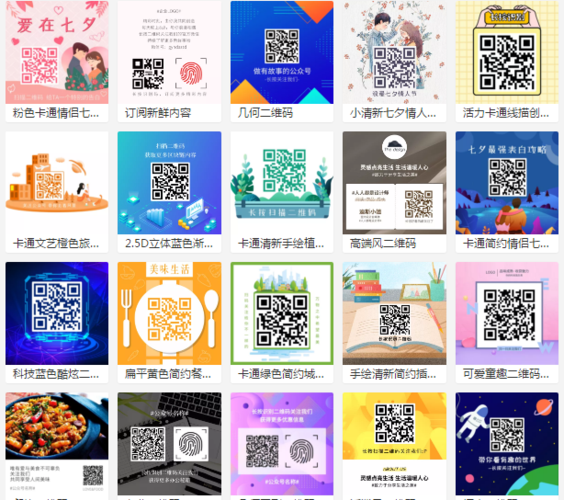QRCode: (478, 34, 537, 91), (254, 293, 310, 348), (482, 287, 536, 342), (32, 282, 82, 333), (147, 296, 195, 342), (261, 148, 307, 193), (372, 47, 416, 90), (375, 403, 414, 444), (20, 45, 58, 85), (151, 162, 189, 202), (488, 158, 528, 196), (130, 426, 166, 462), (264, 29, 299, 64), (244, 434, 279, 469), (129, 56, 164, 90), (490, 418, 524, 453), (378, 305, 410, 336), (404, 189, 434, 219), (34, 173, 62, 200), (79, 463, 106, 487)
